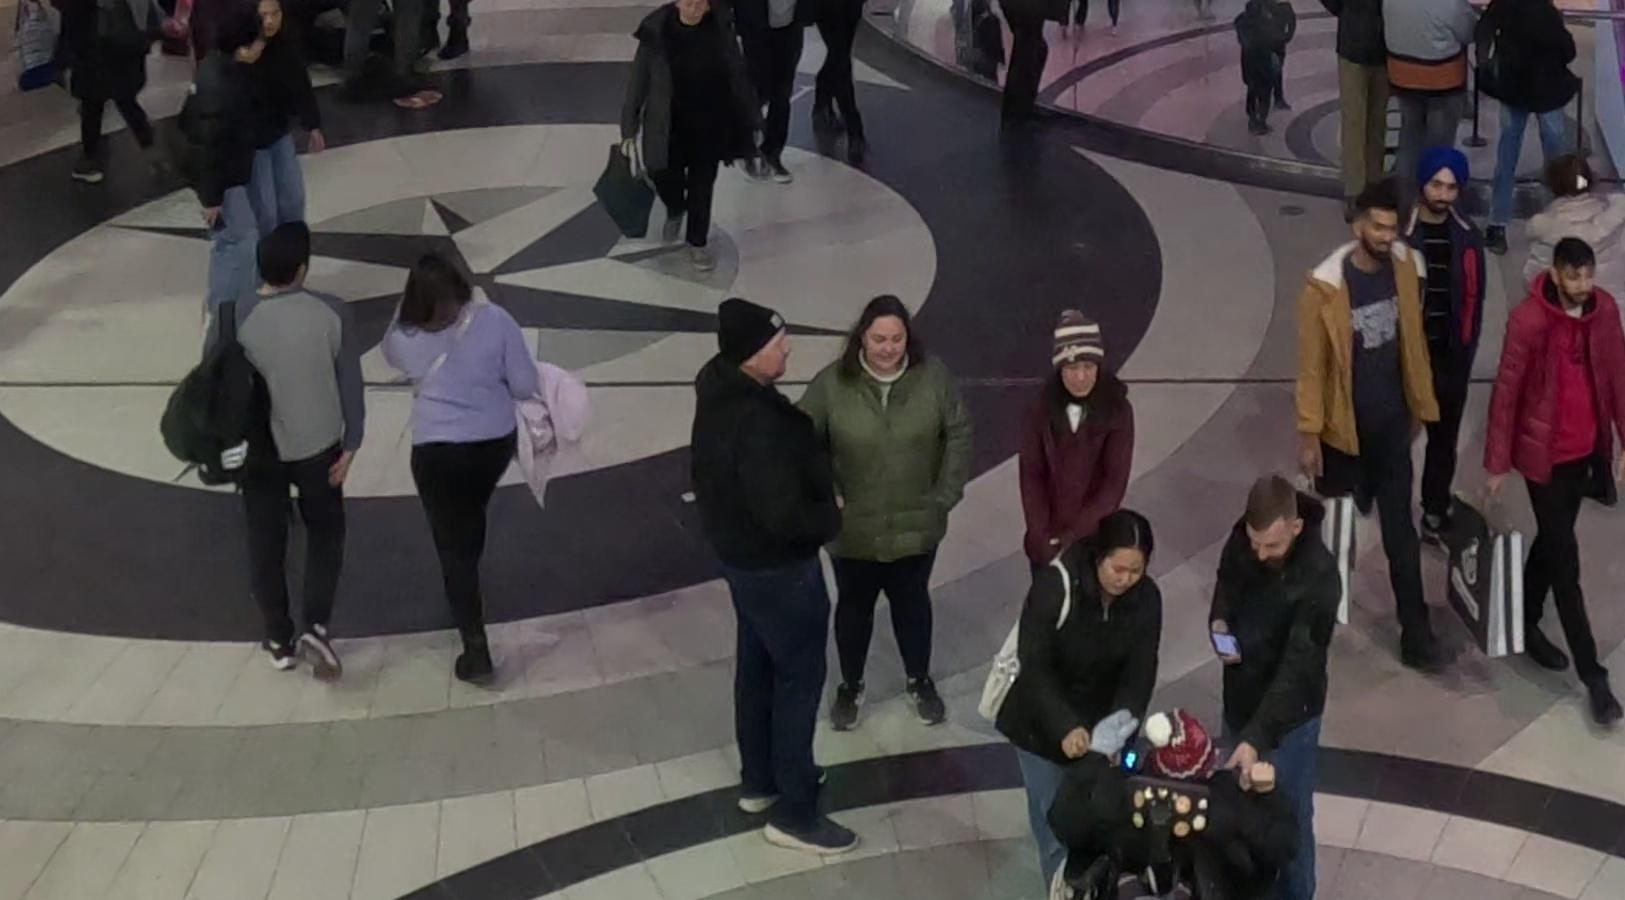person: (669, 285, 870, 857), (180, 212, 389, 686), (355, 232, 552, 701), (809, 288, 994, 744), (1311, 169, 1467, 683), (993, 501, 1185, 897), (1168, 470, 1339, 900), (1482, 235, 1607, 741), (624, 6, 763, 281)
